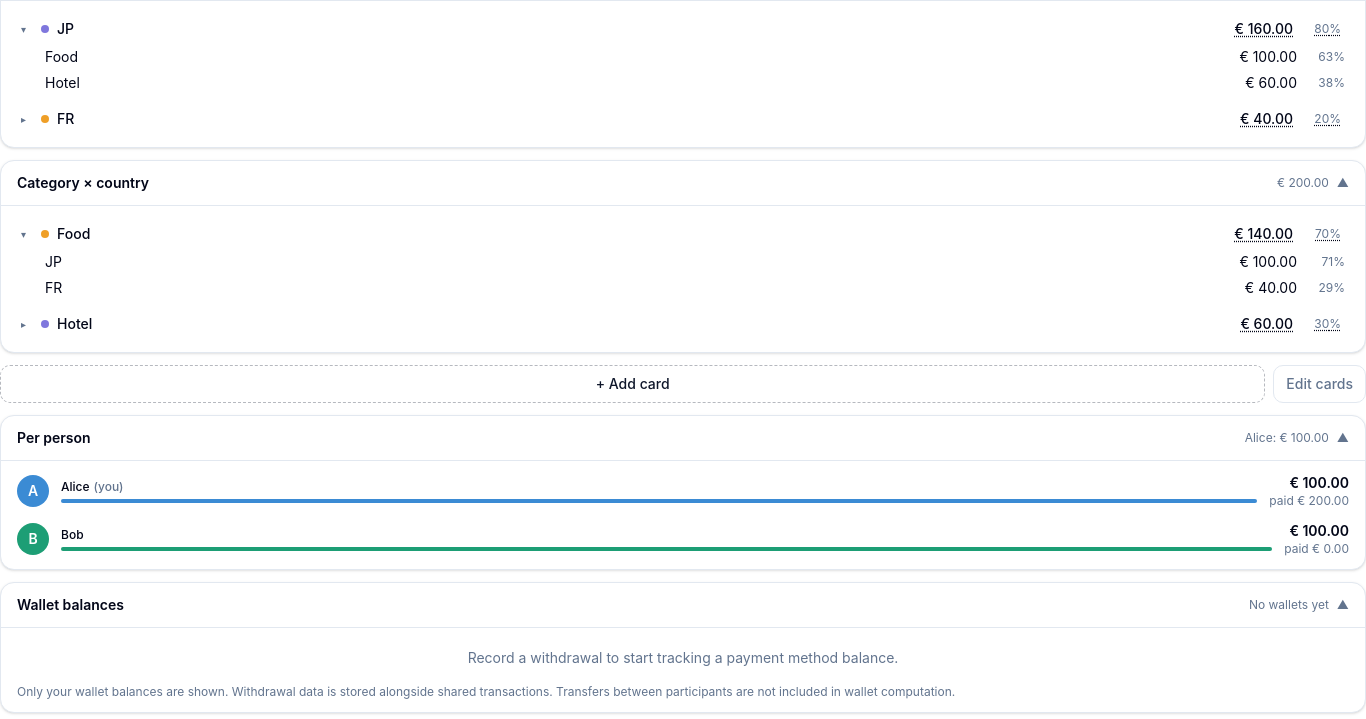
Scenario: DashboardTab — pivot cards › disables the swap control when the swapped card already exists
(page scrolled)
Click the button "Edit cards" at coordinates (1320, 384), box [1273,365,1365,403]
(page scrolled)
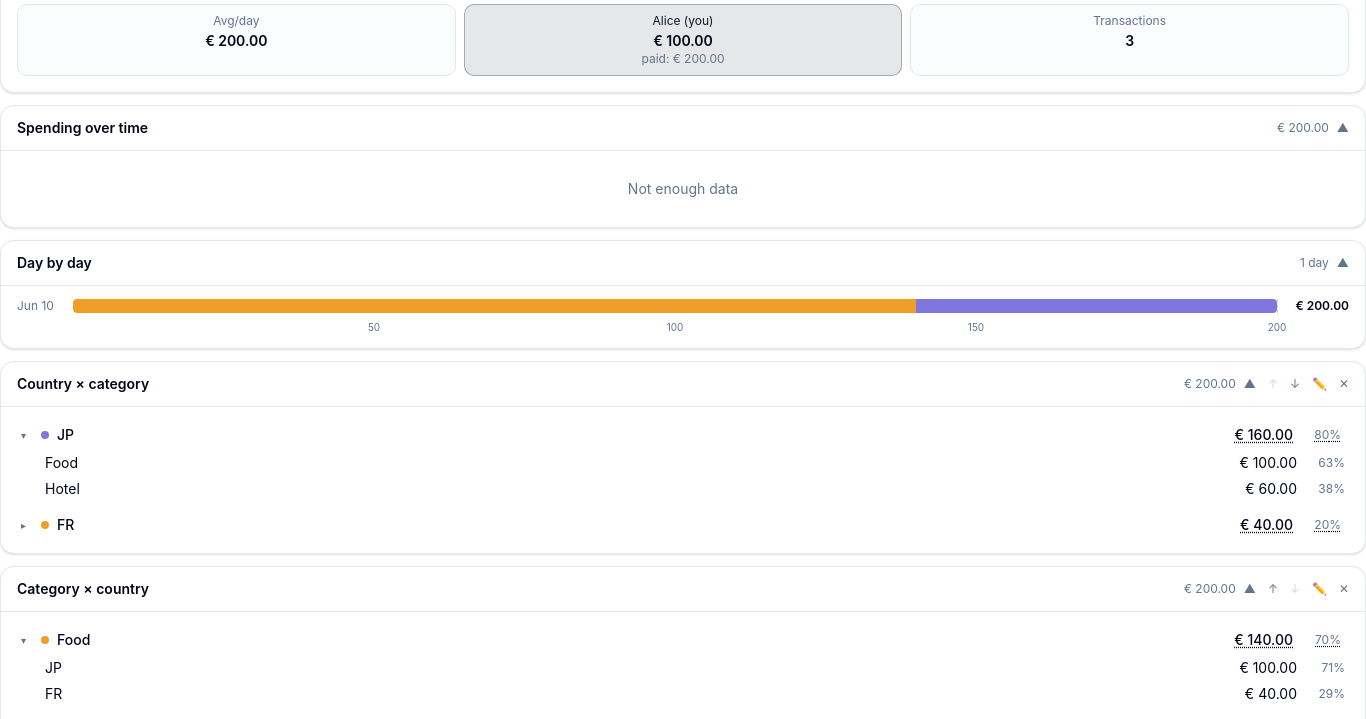
Click the button named "Edit card" at coordinates (1319, 384), box [1308,372,1331,396]
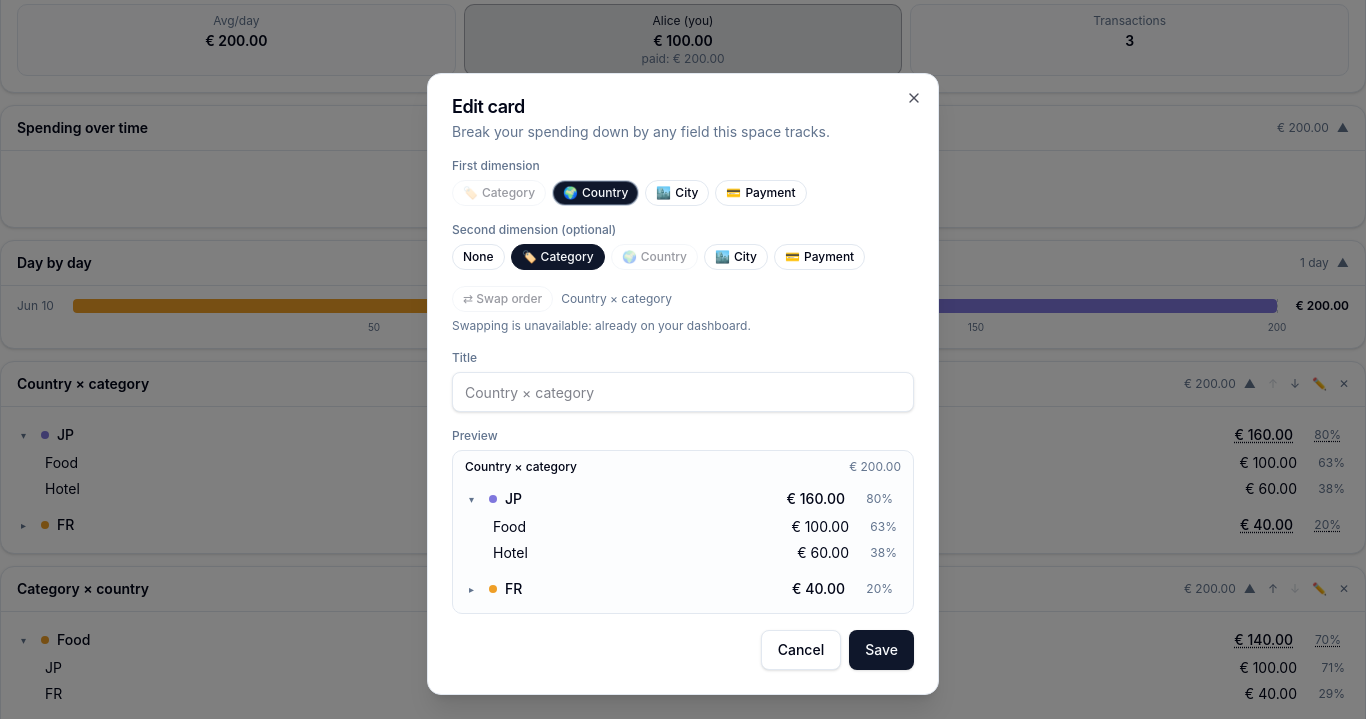
Expected: the button "⇄ Swap order" is disabled, [452,286,553,312]
